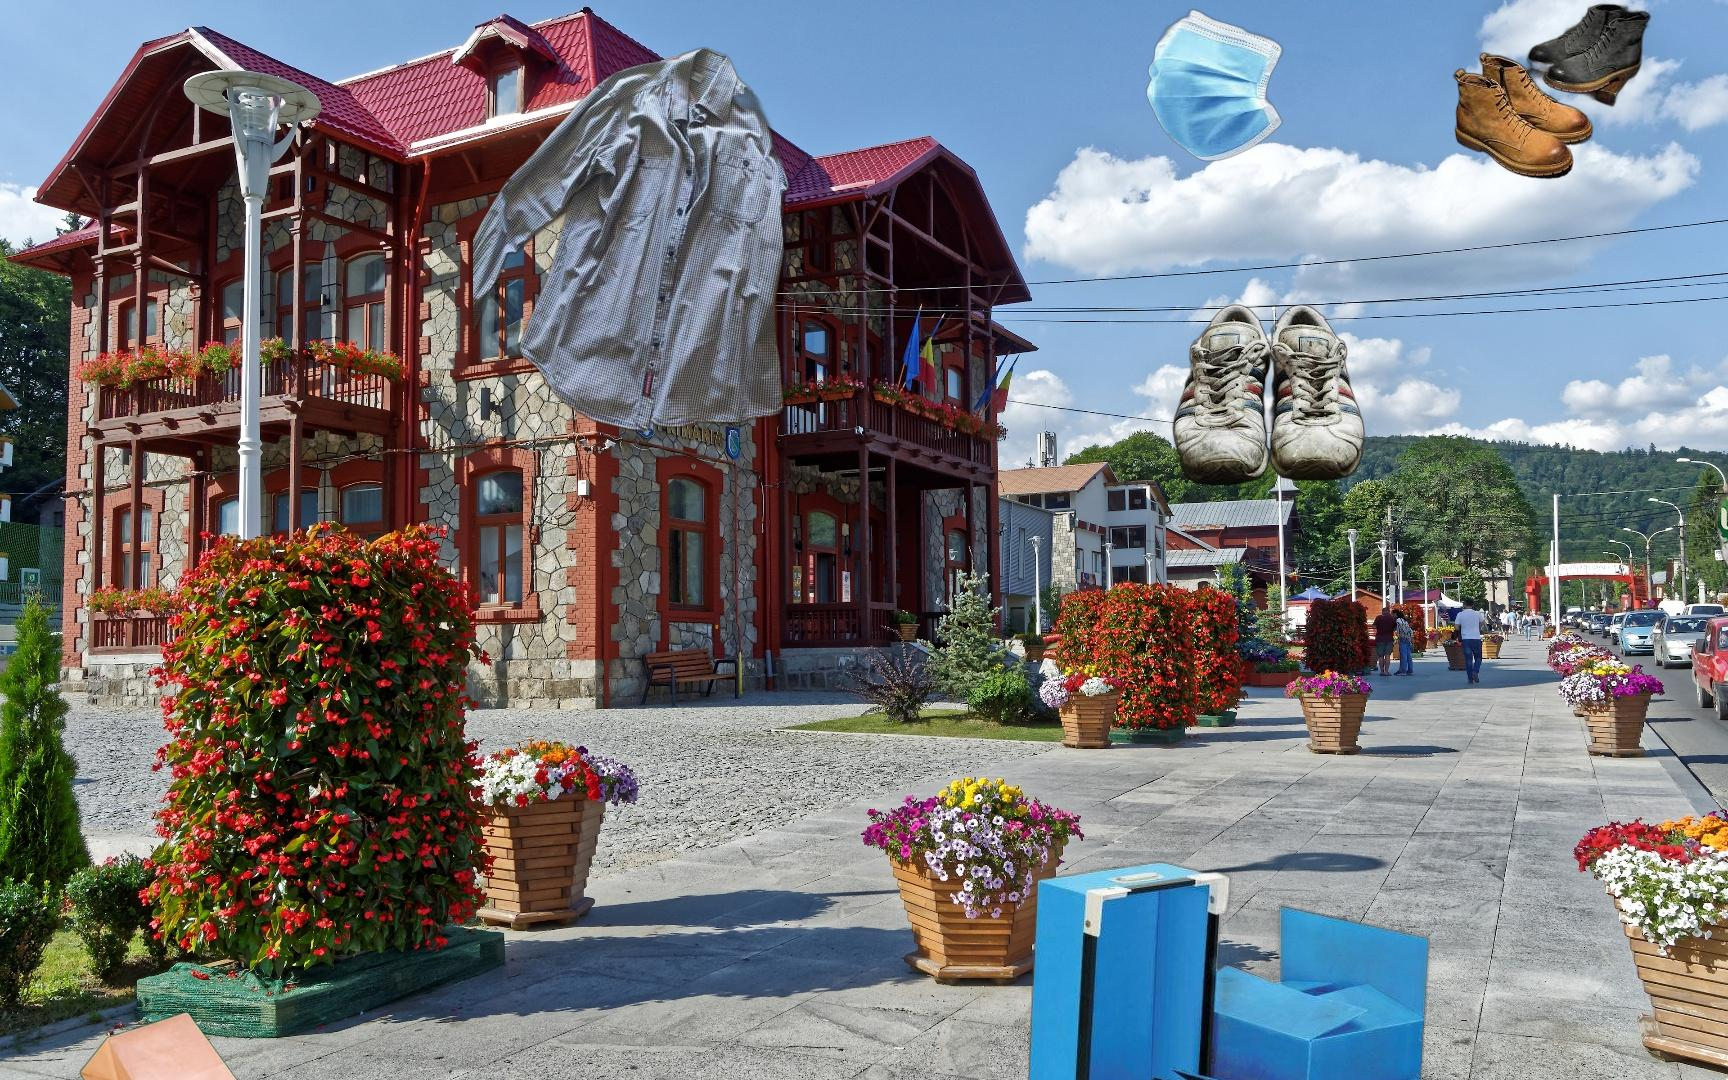clothes: (473, 44, 792, 436)
paper-bag: (51, 1009, 270, 1080)
plastic-bottles: (1711, 391, 1728, 716)
shoes: (1451, 1, 1654, 182), (1171, 304, 1367, 486)
trash: (1144, 7, 1333, 164)
trashbox-cardboard: (1019, 858, 1474, 1080)
